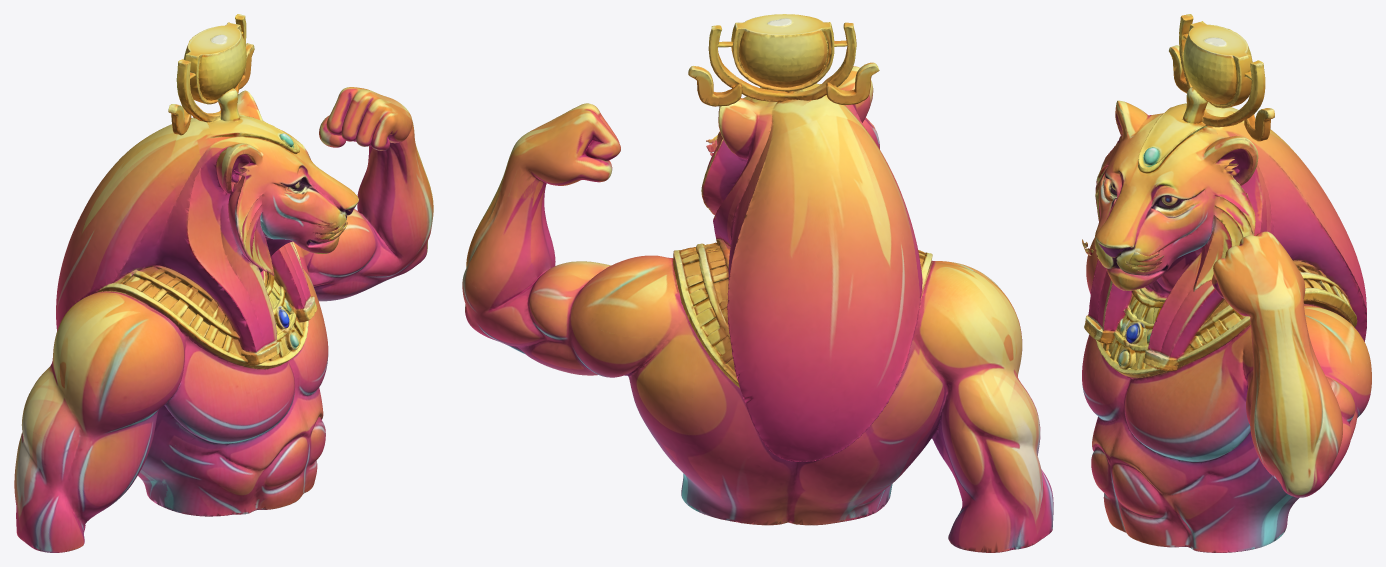
The model's file is lionStatue.glb.
3 views of the same model, side by side, from view 1: azimuth 30°, elevation 25°; view 2: azimuth 150°, elevation 25°; view 3: azimuth 270°, elevation 25° (orthographic). The views are drawn at different scales.
Visible parts, largest first — view 1: tmp6p83zlcmobj; view 2: tmp6p83zlcmobj; view 3: tmp6p83zlcmobj.
Part boxes in pixels (<box>): tmp6p83zlcmobj: <box>14,14,433,552</box>; tmp6p83zlcmobj: <box>462,14,1053,552</box>; tmp6p83zlcmobj: <box>1082,14,1371,552</box>.
Bounding box in the file's own units: 0.9999 × 0.9001 × 0.5035.
Materials: 1 (1 with a texture image).
